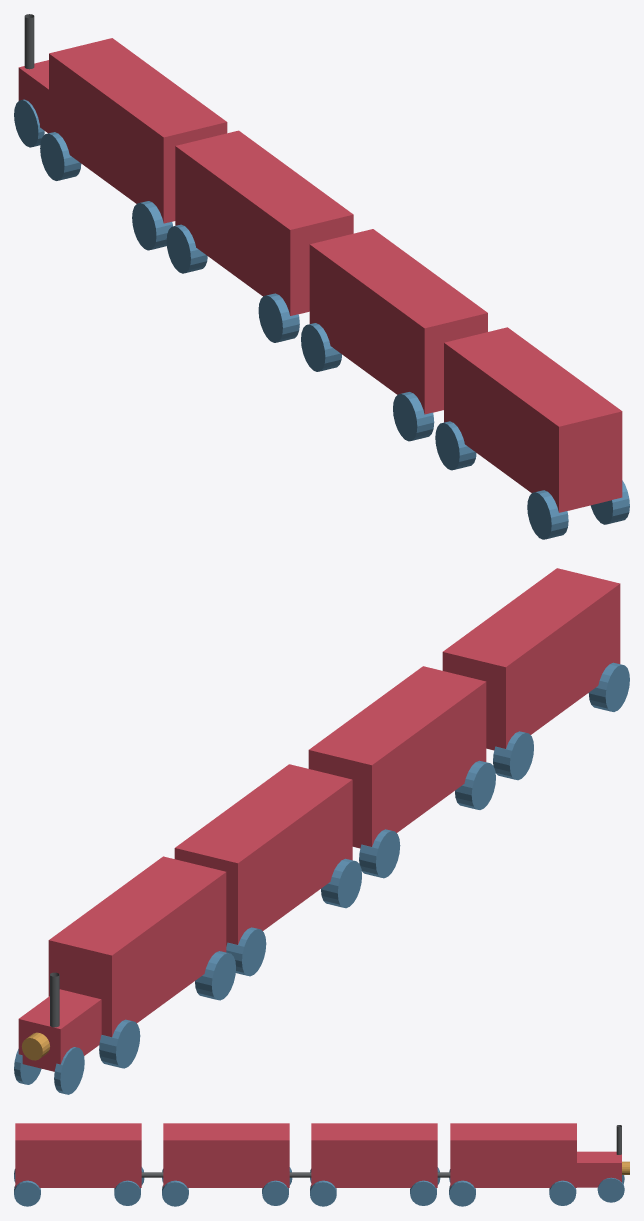
The model's file is Copy of Train.glb.
3 views of the same model, one above another, from view 1: azimuth 30°, elevation 25°; view 2: azimuth 150°, elevation 25°; view 3: azimuth 270°, elevation 25° (orthographic). The views are drawn at different scales.
Visible parts, largest first — view 1: Mesh_Mesh_head_geo.001_lambert2SG.001; view 2: Mesh_Mesh_head_geo.001_lambert2SG.001; view 3: Mesh_Mesh_head_geo.001_lambert2SG.001.
Part boxes in pixels (x1,y1,x2,y2): Mesh_Mesh_head_geo.001_lambert2SG.001: (14, 14, 629, 539); Mesh_Mesh_head_geo.001_lambert2SG.001: (14, 568, 629, 1094); Mesh_Mesh_head_geo.001_lambert2SG.001: (14, 1123, 629, 1206).
Size of the model in its own units: 37 by 55 by 458.
